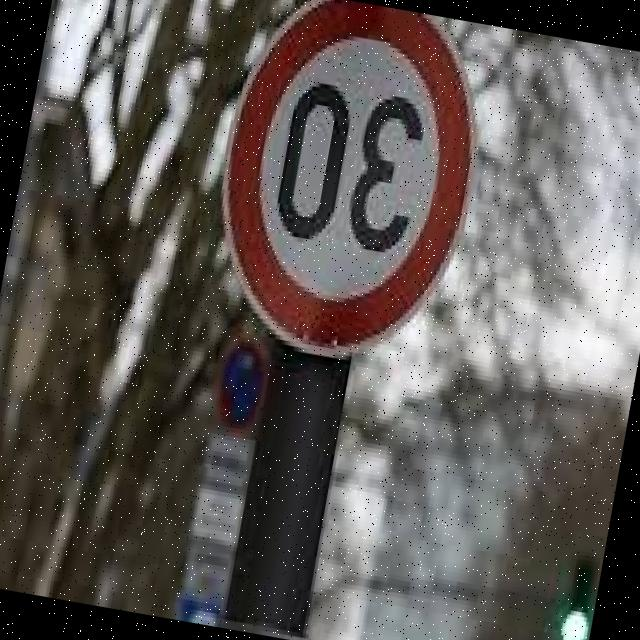speed_limit_30: (189, 0, 508, 386)
